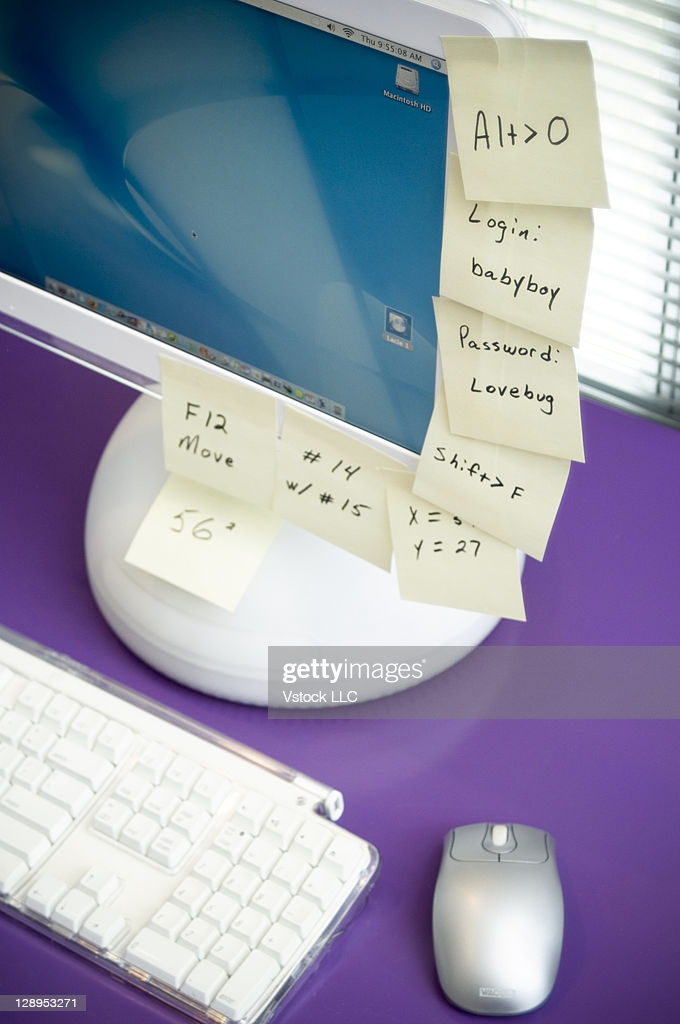Note: (442, 32, 608, 209), (430, 298, 591, 464), (437, 173, 594, 343), (421, 387, 580, 554), (385, 457, 537, 625), (119, 473, 280, 614), (274, 405, 394, 566), (157, 350, 273, 514)
